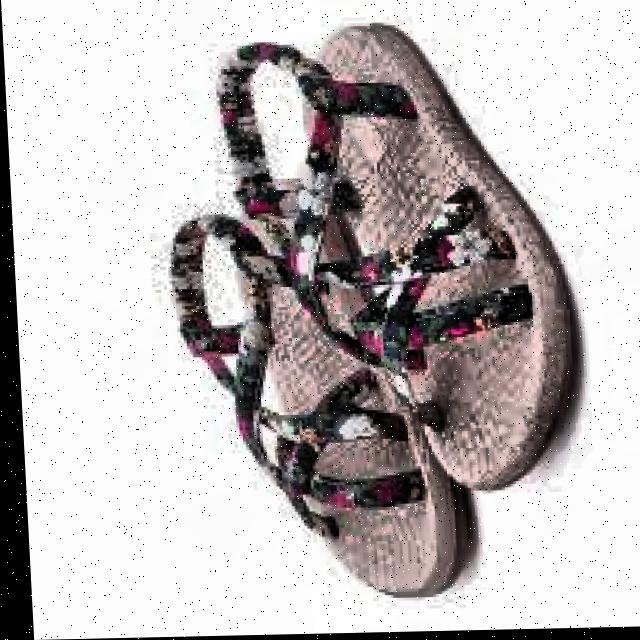shoes: (143, 19, 583, 612)
